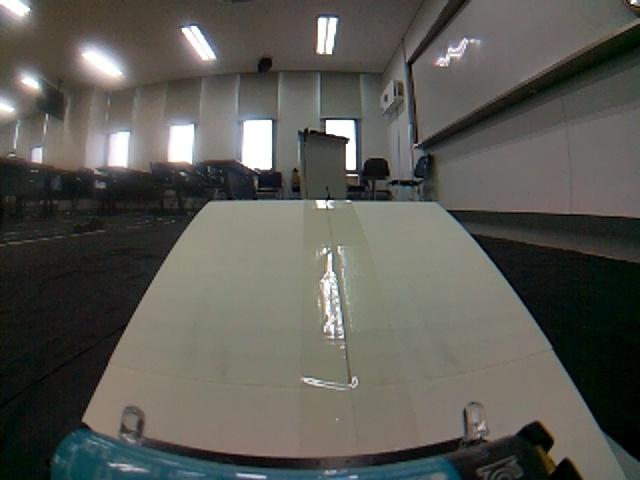hill_up: (4, 189, 631, 476)
